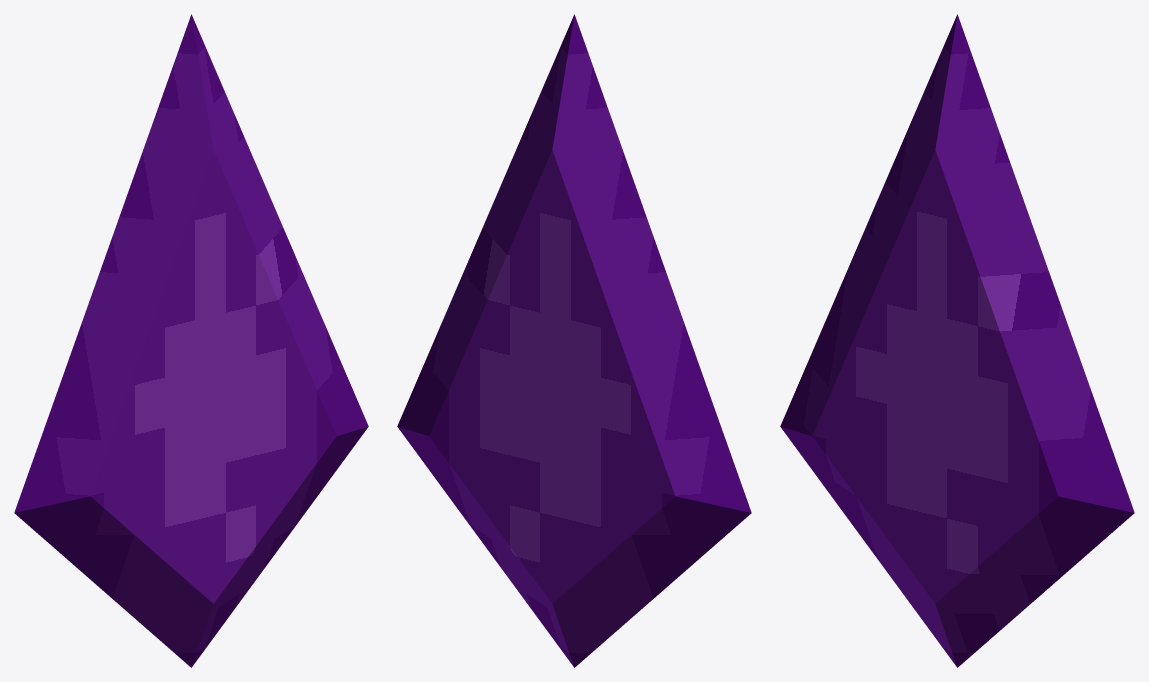
The model's file is gem.obj.
The picture shows the model from 3 angles, left to right: view 1: azimuth 30°, elevation 25°; view 2: azimuth 150°, elevation 25°; view 3: azimuth 330°, elevation 25°; orthographic projection.
Parts seen in each view (by area): view 1: Spin.002; view 2: Spin.002; view 3: Spin.002.
Part boxes in pixels (bbox=[...]): Spin.002: bbox=[14, 14, 368, 667]; Spin.002: bbox=[397, 14, 751, 667]; Spin.002: bbox=[780, 14, 1134, 667].
Bounding box in the file's own units: 25.68 × 45.25 × 5.56.
Materials: 1 (1 with a texture image).
